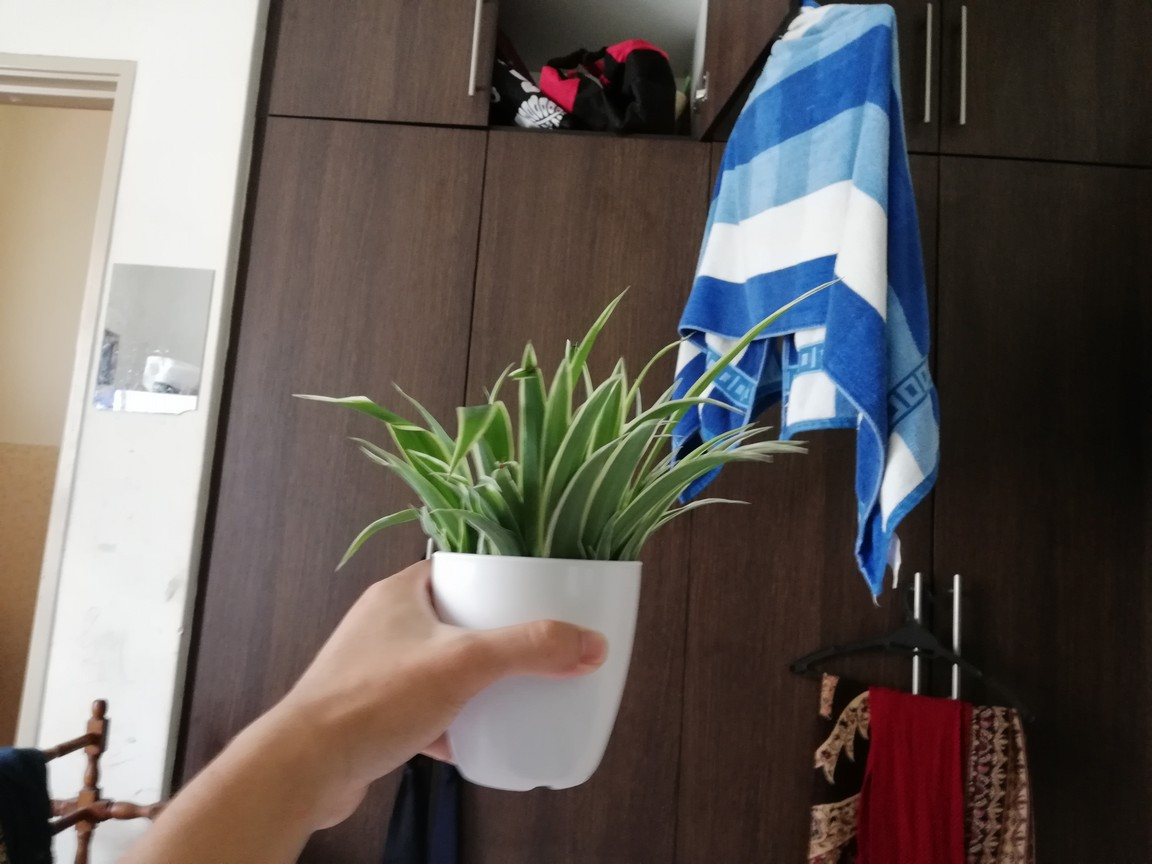daun: (701, 272, 847, 395), (333, 501, 419, 578), (450, 400, 496, 484), (665, 496, 763, 535), (580, 281, 631, 354), (288, 391, 392, 424), (390, 379, 449, 434), (639, 327, 702, 378), (427, 504, 506, 542), (579, 373, 624, 425), (349, 436, 402, 478), (403, 446, 450, 483), (723, 424, 779, 445), (655, 372, 685, 405), (735, 450, 776, 468), (771, 442, 814, 455), (767, 436, 815, 446), (580, 539, 596, 565), (739, 419, 762, 430)
